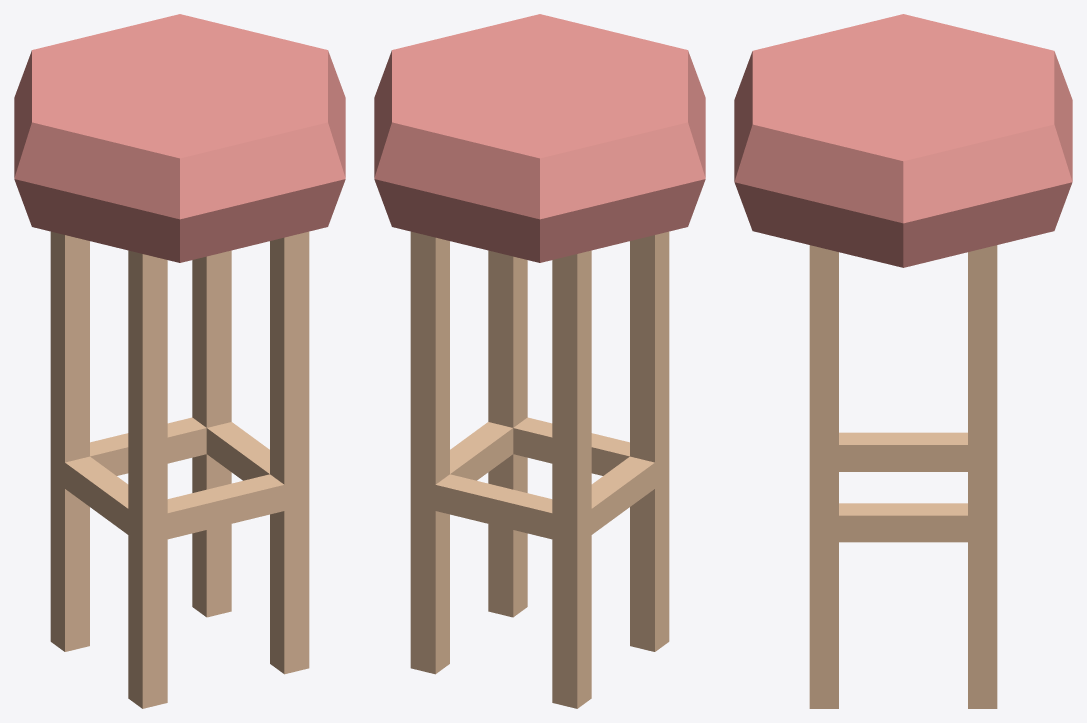
File: stoolBar.glb
3 renders of one model, left to right at view 1: azimuth 30°, elevation 25°; view 2: azimuth 150°, elevation 25°; view 3: azimuth 270°, elevation 25°, orthographic.
Parts seen in each view (by area): view 1: stoolBar(Clone); view 2: stoolBar(Clone); view 3: stoolBar(Clone).
Boxes of the visible parts, <box> form: stoolBar(Clone): <box>14,14,345,708</box>; stoolBar(Clone): <box>374,14,705,708</box>; stoolBar(Clone): <box>734,14,1072,708</box>.
Bounding box in the file's own units: 0.2654 × 0.435 × 0.2299.
